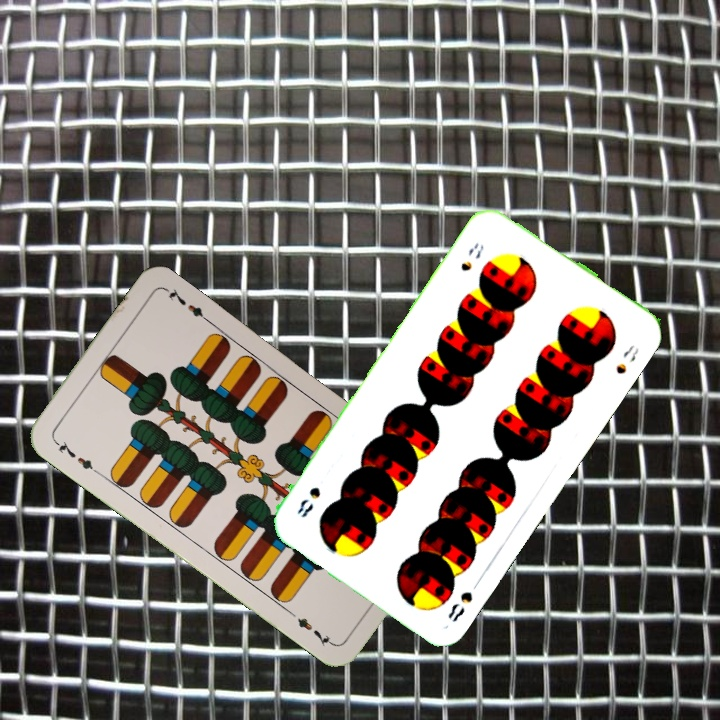E7: (50, 435, 100, 476)
S8: (443, 574, 484, 625), (456, 238, 487, 274)
